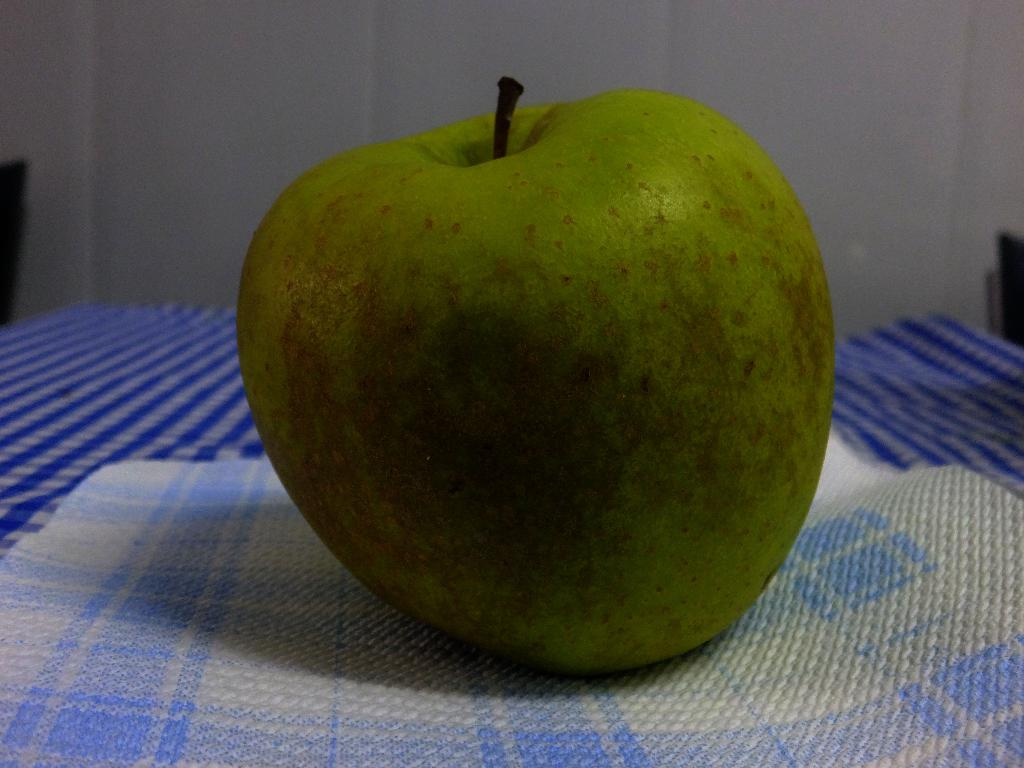Apple: (234, 78, 833, 679)
